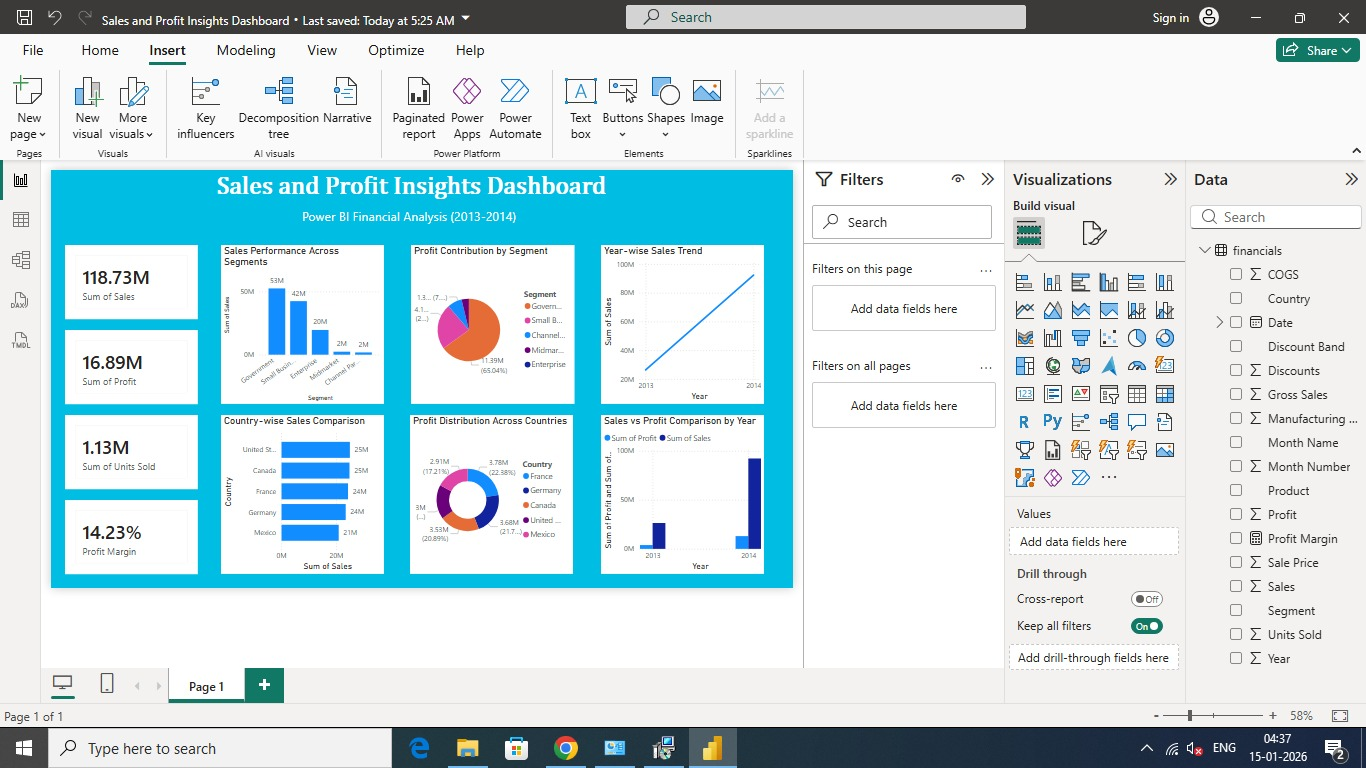

What the dashboard file says about the page in this screenshot:
{"tool":"powerbi","page":{"name":"Page 1","canvas":[1280,720],"ordinal":0},"visuals":[{"type":"cardVisual","fields":{"Data":["Sum(financials.Sales)"]},"box":[24.1,129.3,229.3,127.6],"z":0},{"type":"cardVisual","fields":{"Data":["Sum(financials.Profit)"]},"box":[24.1,275.9,229.3,127.6],"z":1000},{"type":"cardVisual","fields":{"Data":["Sum(financials.Units Sold)"]},"box":[24.1,422.4,229.3,127.6],"z":2000},{"type":"cardVisual","fields":{"Data":["financials.Profit Margin"]},"box":[24.1,569,229.3,127.6],"z":3000},{"type":"columnChart","title":"Sales Performance Across Segments ","fields":{"Category":["financials.Segment"],"Y":["Sum(financials.Sales)"]},"box":[293.1,129.3,281,274.1],"z":4000},{"type":"pieChart","title":" Profit Contribution by Segment","fields":{"Category":["financials.Segment"],"Y":["Sum(financials.Profit)"]},"box":[620,129.2,281.5,273.8],"z":5000},{"type":"lineChart","title":"Year-wise Sales Trend ","fields":{"Category":["financials.Year"],"Y":["Sum(financials.Sales)"]},"box":[948.3,129.3,281,274.1],"z":6000},{"type":"barChart","title":"Country-wise Sales Comparison ","fields":{"Category":["financials.Country"],"Y":["Sum(financials.Sales)"]},"box":[293.1,422.4,281,274.1],"z":7000},{"type":"donutChart","title":"Profit Distribution Across Countries ","fields":{"Y":["Sum(financials.Profit)"],"Category":["financials.Country","financials.Segment"]},"box":[619,422.4,281,274.1],"z":8000},{"type":"clusteredColumnChart","title":"Sales vs Profit Comparison by Year","fields":{"Y":["Sum(financials.Profit)","Sum(financials.Sales)"],"Category":["financials.Year"]},"box":[948.3,422.4,281,274.1],"z":9000},{"type":"textbox","box":[275.9,0,689.7,72.4],"z":10000},{"type":"textbox","box":[419,60.3,396.6,50],"z":10001}]}

Visuals, with their boxes on the page's 1280x720 design canvas (x1, y1, x2, y2). These are canvas units, not pixel positions in the 1366x768 screenshot, which may show the page scaled, cropped or inside an application window:
cardVisual - Sum(financials.Sales): l=24, t=129, r=253, b=257
cardVisual - Sum(financials.Profit): l=24, t=276, r=253, b=404
cardVisual - Sum(financials.Units Sold): l=24, t=422, r=253, b=550
cardVisual - financials.Profit Margin: l=24, t=569, r=253, b=697
"Sales Performance Across Segments " columnChart: l=293, t=129, r=574, b=403
" Profit Contribution by Segment" pieChart: l=620, t=129, r=902, b=403
"Year-wise Sales Trend " lineChart: l=948, t=129, r=1229, b=403
"Country-wise Sales Comparison " barChart: l=293, t=422, r=574, b=696
"Profit Distribution Across Countries " donutChart: l=619, t=422, r=900, b=696
"Sales vs Profit Comparison by Year" clusteredColumnChart: l=948, t=422, r=1229, b=696
textbox: l=276, t=0, r=966, b=72
textbox: l=419, t=60, r=816, b=110
